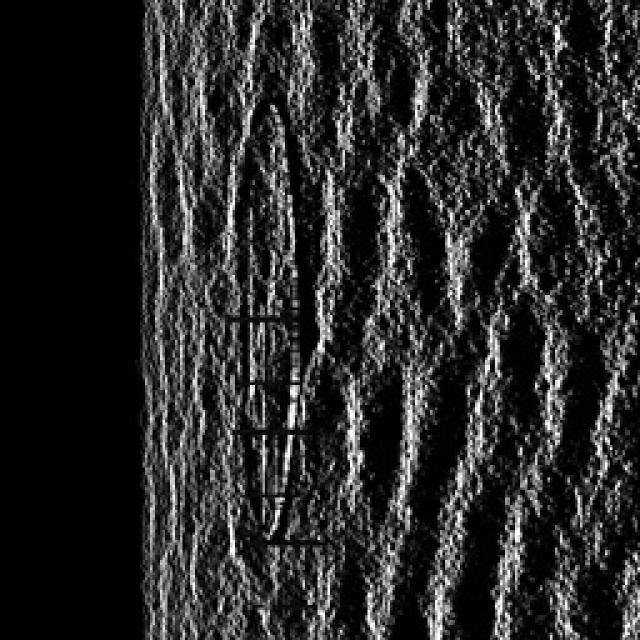ship: (225, 82, 310, 552)
